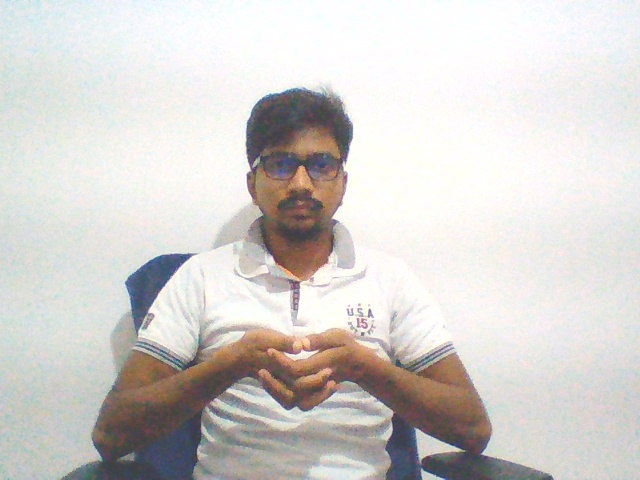mangosteen: (221, 322, 374, 418)
